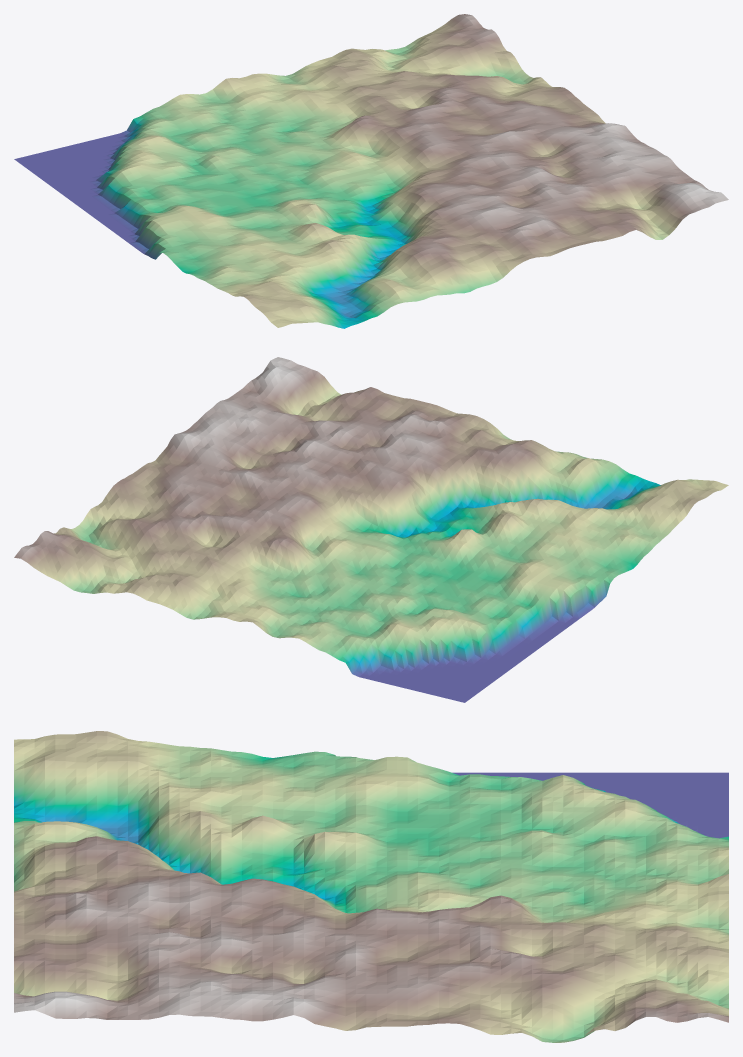
Rendered from 003719_terrain_only.glb.
3 renders of one model, top to bottom at view 1: azimuth 30°, elevation 25°; view 2: azimuth 150°, elevation 25°; view 3: azimuth 270°, elevation 25°, orthographic. The views are drawn at different scales.
Parts seen in each view (by area): view 1: terrain; view 2: terrain; view 3: terrain.
Boxes of the visible parts, <box> form: terrain: <box>14,14,728,328</box>; terrain: <box>14,357,728,702</box>; terrain: <box>14,731,728,1042</box>.
Bounding box in the file's own units: 0.0183 × 0.00182 × 0.0186.
